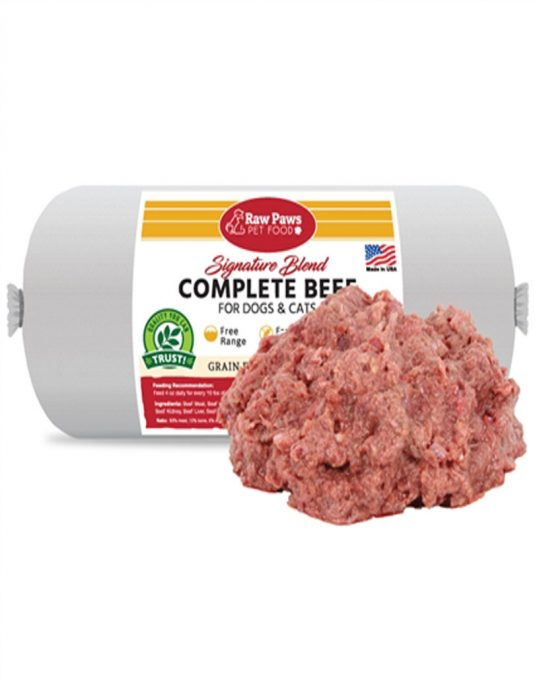ground_beef: (200, 283, 535, 525)
